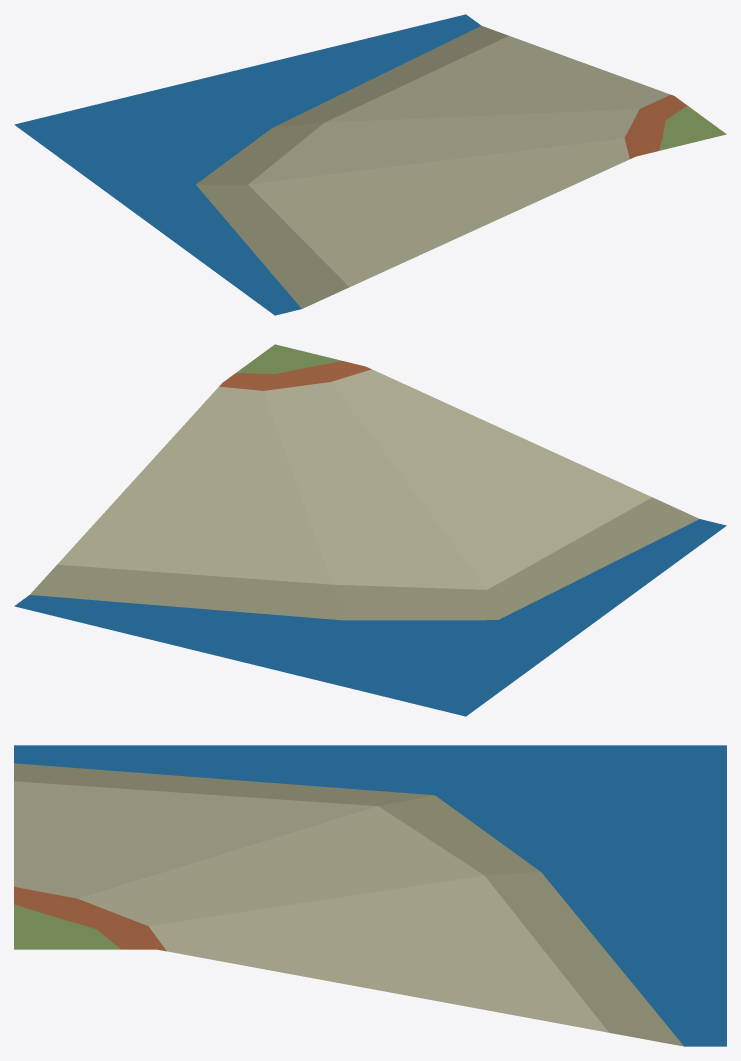
File: SA_ENV_BeachSection_OuterCorner_01.gltf
3 views of the same model, one above another, from view 1: azimuth 30°, elevation 25°; view 2: azimuth 150°, elevation 25°; view 3: azimuth 270°, elevation 25° (orthographic). The views are drawn at different scales.
Visible parts, largest first — view 1: SA_ENV_BeachSection_OuterCorner_01; view 2: SA_ENV_BeachSection_OuterCorner_01; view 3: SA_ENV_BeachSection_OuterCorner_01.
Boxes of the visible parts, x1=… form: SA_ENV_BeachSection_OuterCorner_01: x1=14, y1=14, x2=726, y2=315; SA_ENV_BeachSection_OuterCorner_01: x1=14, y1=344, x2=726, y2=716; SA_ENV_BeachSection_OuterCorner_01: x1=14, y1=745, x2=726, y2=1046.
Size of the model in its own units: 20 by 3 by 20.
Materials: 1 (1 with a texture image).
